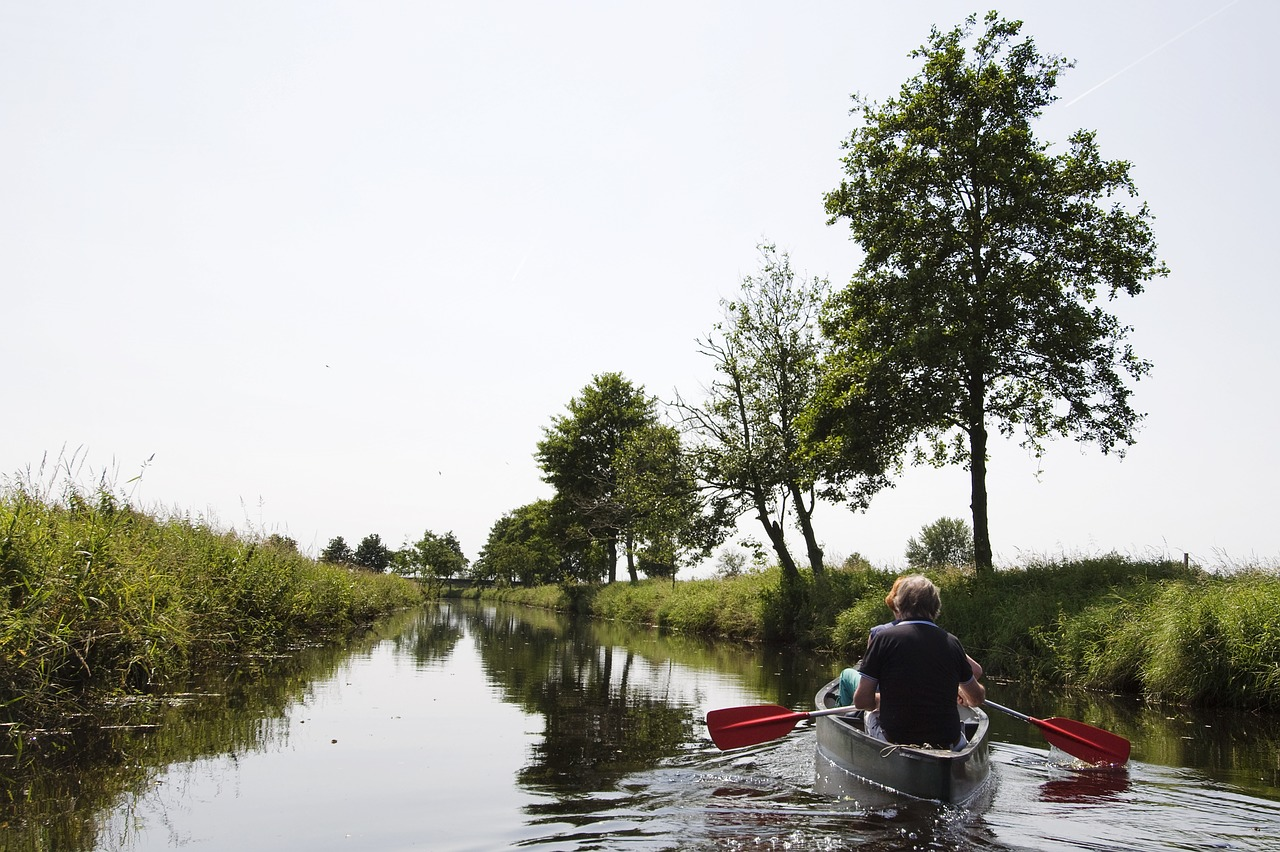kayak: (807, 664, 995, 828)
